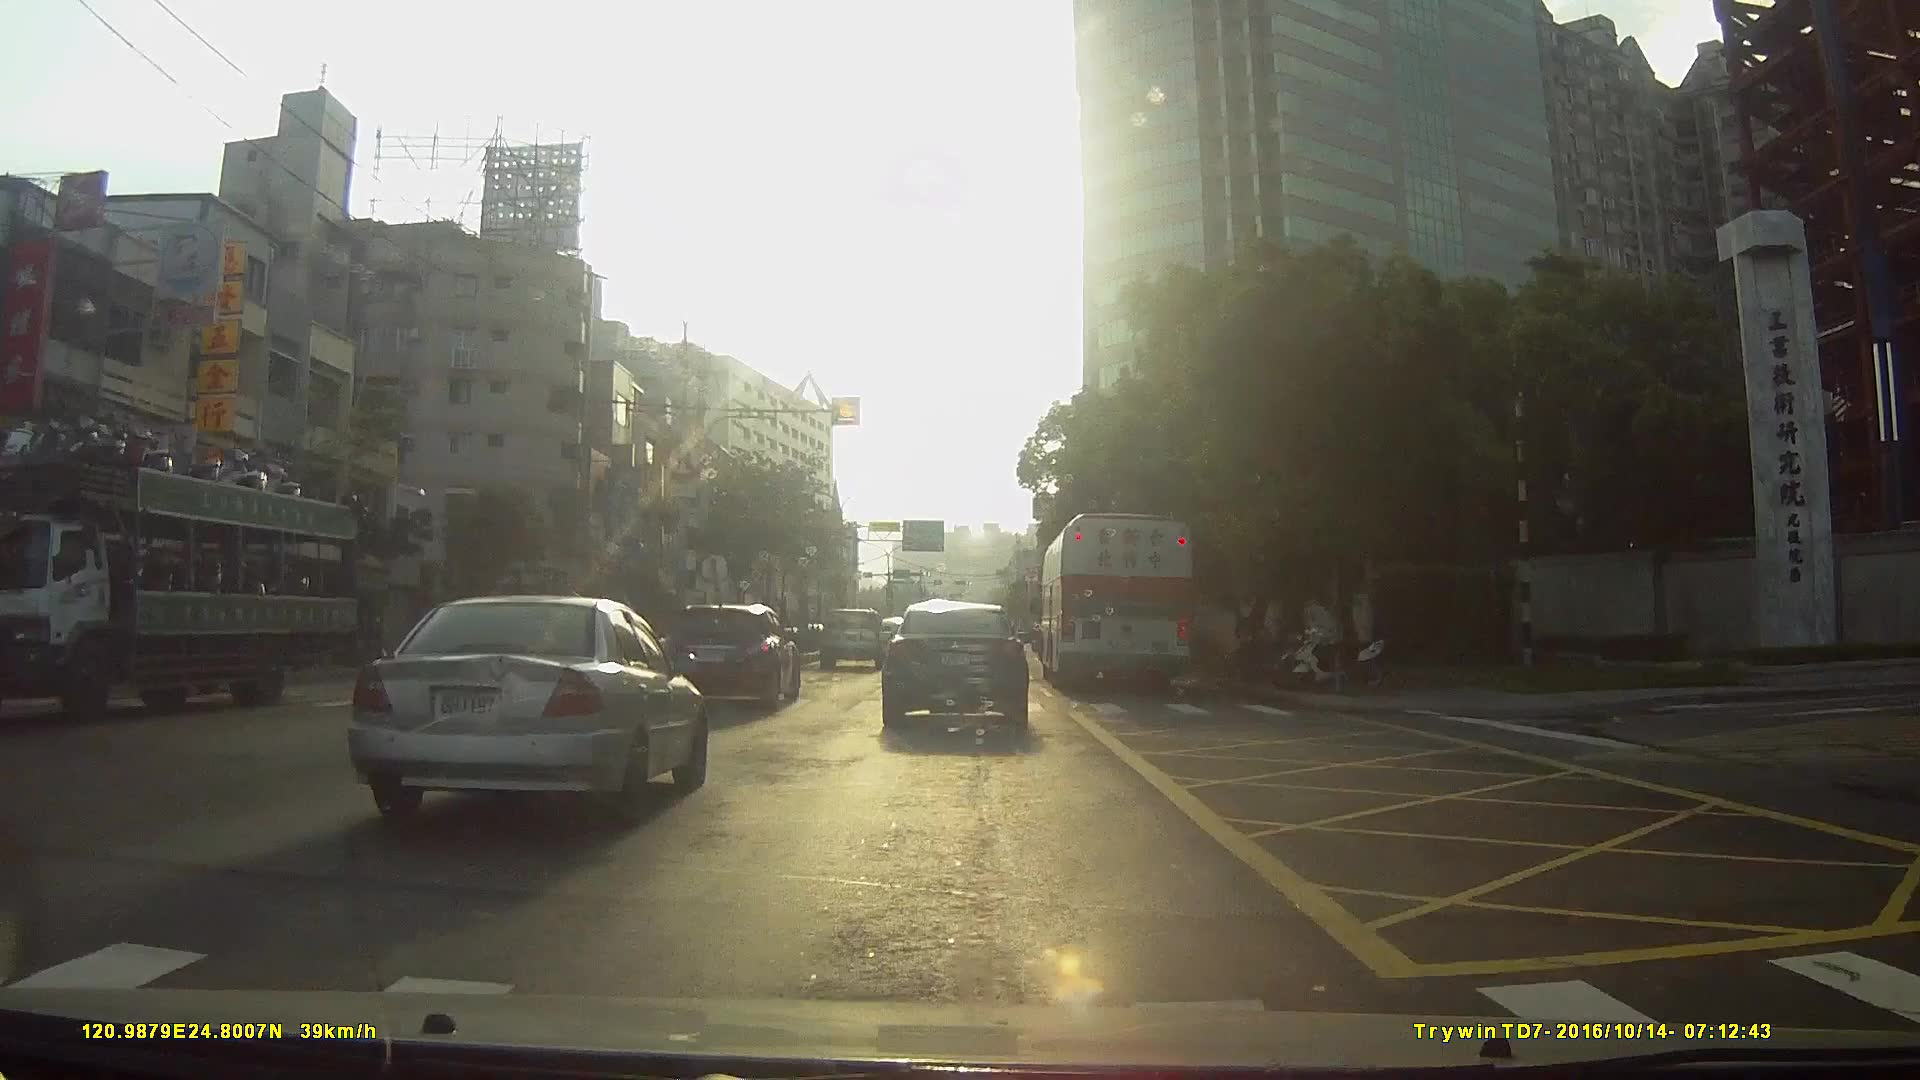vehicle: (3, 404, 359, 725), (342, 593, 705, 825), (1042, 512, 1199, 702), (880, 603, 1031, 741), (665, 604, 802, 712), (818, 611, 889, 676)
